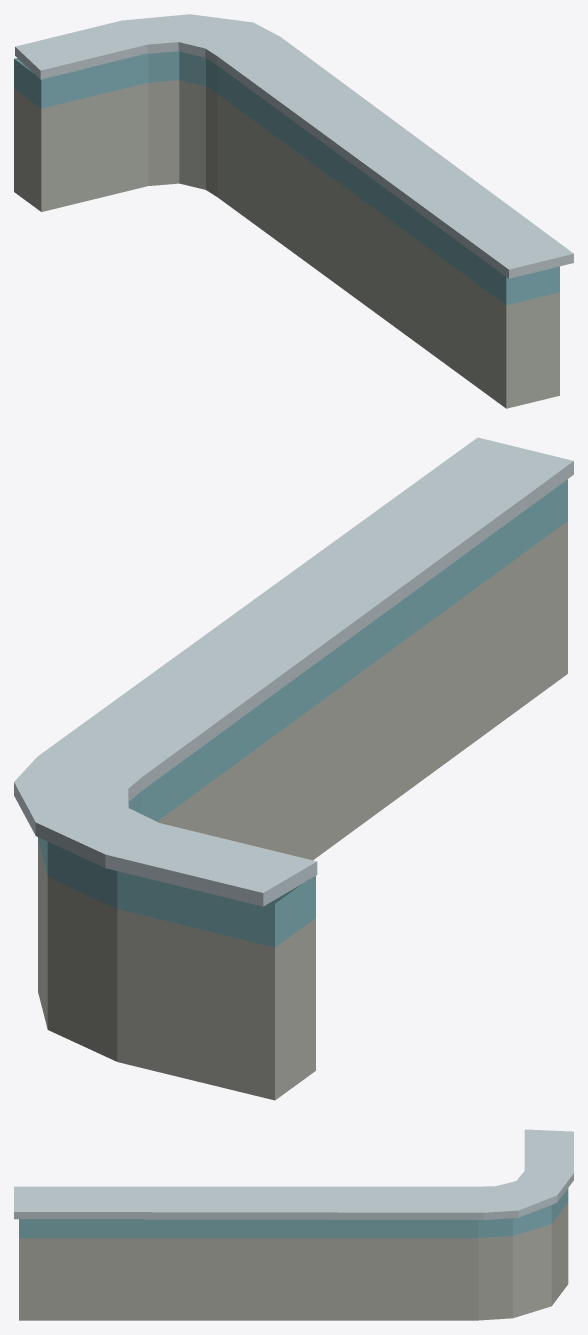
The model's file is bancada.fbx.
3 renders of one model, top to bottom at view 1: azimuth 30°, elevation 25°; view 2: azimuth 150°, elevation 25°; view 3: azimuth 270°, elevation 25°, orthographic. The views are drawn at different scales.
Visible parts, largest first — view 1: bancada; view 2: bancada; view 3: bancada.
Boxes of the visible parts, left/top/right/bottom form: bancada: left=14, top=14, right=573, bottom=408; bancada: left=14, top=437, right=573, bottom=1100; bancada: left=14, top=1129, right=573, bottom=1320.
Bounding box in the file's own units: 899 × 567 × 2554.
